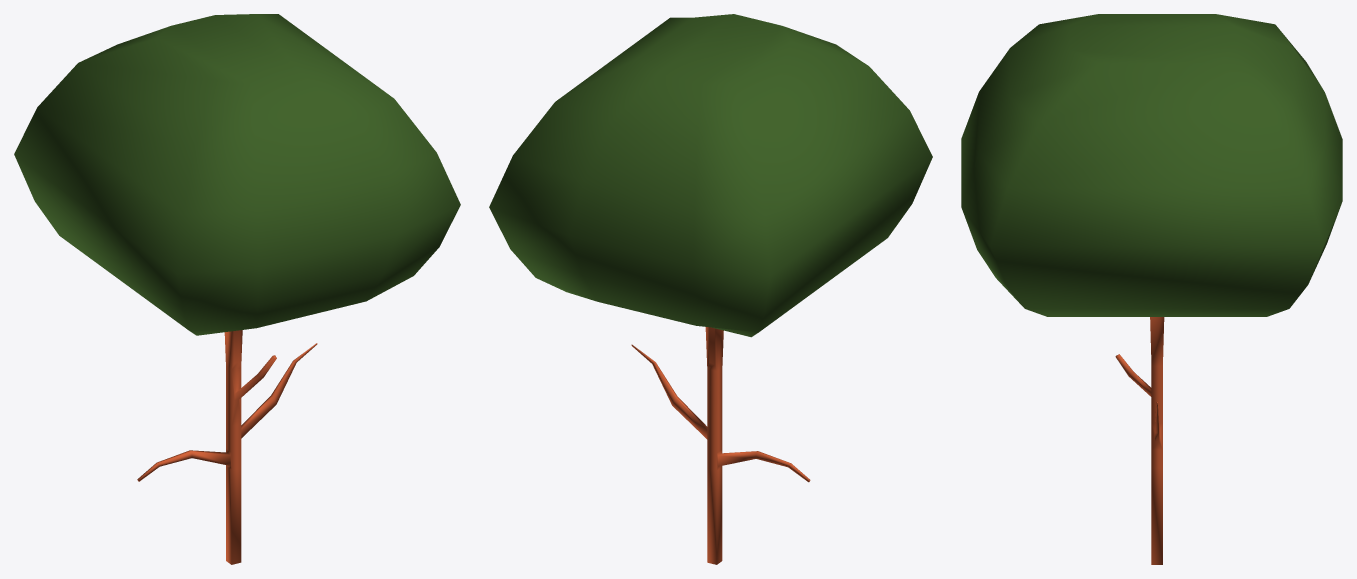
Rendered from Tree_Mdl.fbx.
3 renders of one model, left to right at view 1: azimuth 30°, elevation 25°; view 2: azimuth 150°, elevation 25°; view 3: azimuth 270°, elevation 25°, orthographic. The views are drawn at different scales.
Visible parts, largest first — view 1: Cube; view 2: Cube; view 3: Cube.
Part boxes in pixels (<box>): Cube: <box>14,14,460,564</box>; Cube: <box>489,14,932,564</box>; Cube: <box>961,14,1342,564</box>.
Size of the model in its own units: 335 by 581 by 383.
